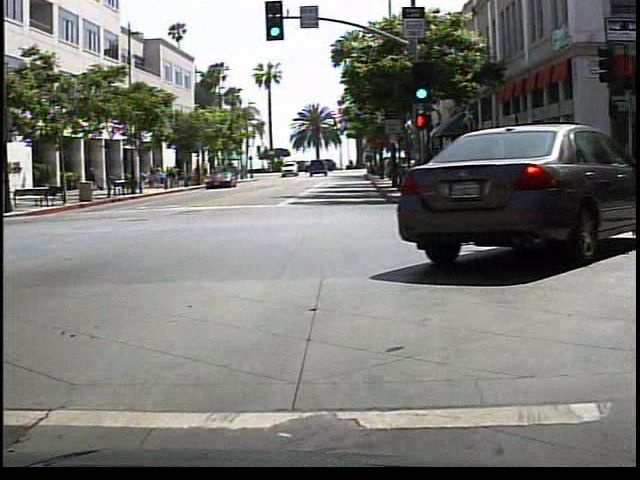person: (82, 160, 99, 192)
